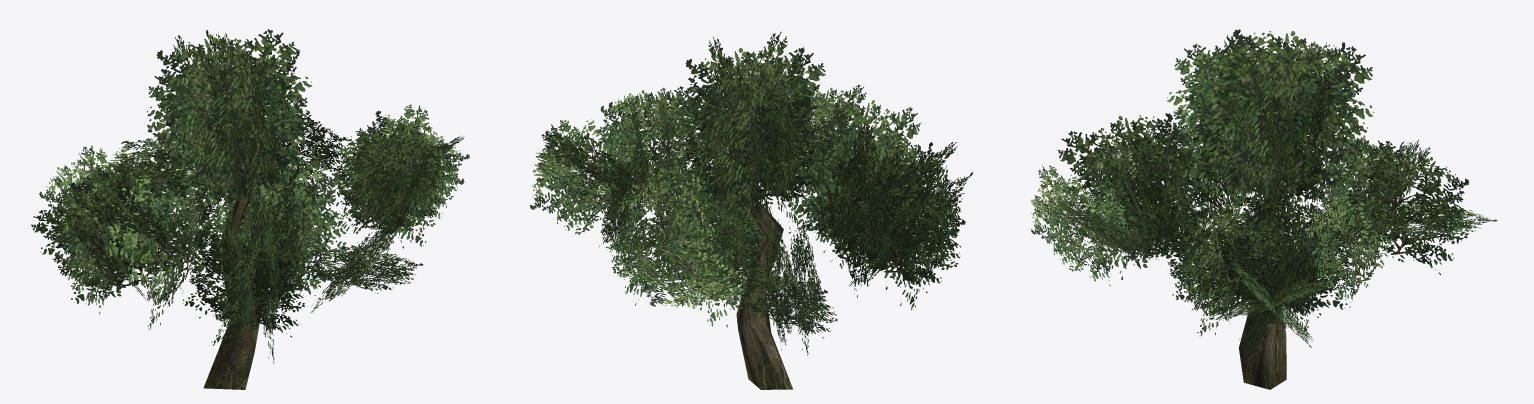
File: Tree04.FBX
3 views of the same model, side by side, from view 1: azimuth 30°, elevation 25°; view 2: azimuth 150°, elevation 25°; view 3: azimuth 270°, elevation 25° (orthographic). The views are drawn at different scales.
Parts seen in each view (by area): view 1: tree04; view 2: tree04; view 3: tree04.
Part boxes in pixels (x1,y1,x2,y2): tree04: [31, 29, 469, 389]; tree04: [530, 31, 972, 389]; tree04: [1031, 29, 1497, 389].
Size of the model in its own units: 1394 by 1023 by 1295.
Materials: 1 (1 with a texture image).
